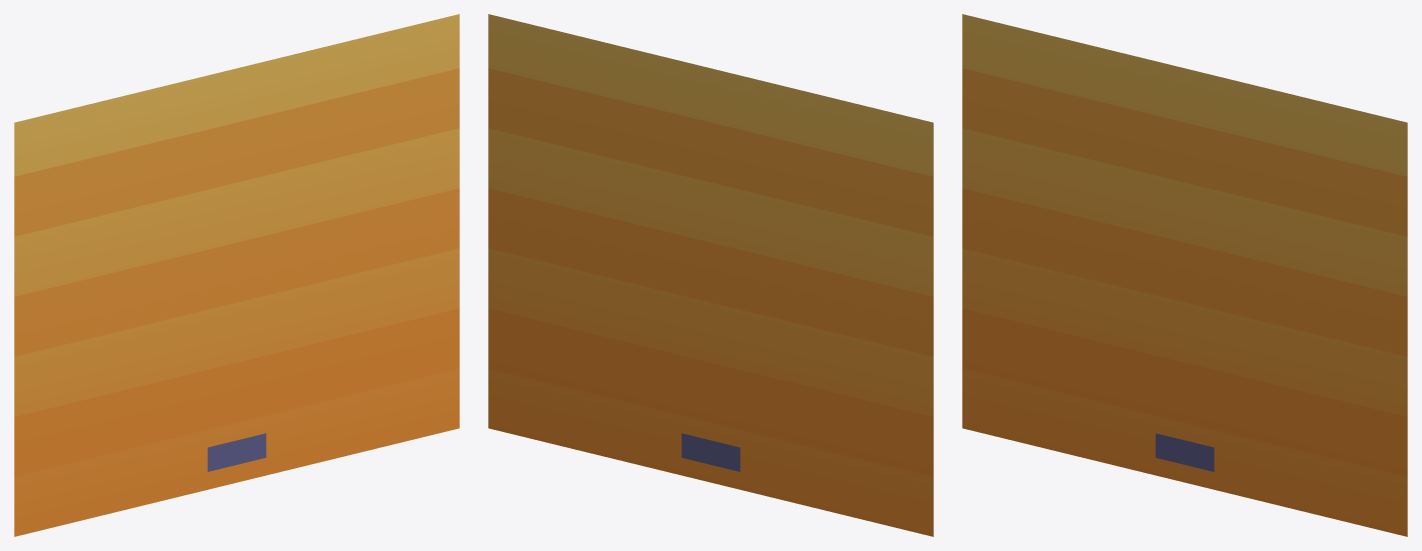
Rendered from door-wide-closed.glb.
3 views of the same model, side by side, from view 1: azimuth 30°, elevation 25°; view 2: azimuth 150°, elevation 25°; view 3: azimuth 330°, elevation 25° (orthographic).
Parts seen in each view (by area): view 1: door-wide-closed; view 2: door-wide-closed; view 3: door-wide-closed.
Boxes of the visible parts, x1=… form: door-wide-closed: x1=14, y1=14, x2=459, y2=536; door-wide-closed: x1=488, y1=14, x2=933, y2=536; door-wide-closed: x1=962, y1=14, x2=1407, y2=536.
Bounding box in the file's own units: 1.8 × 1.6 × 0.
